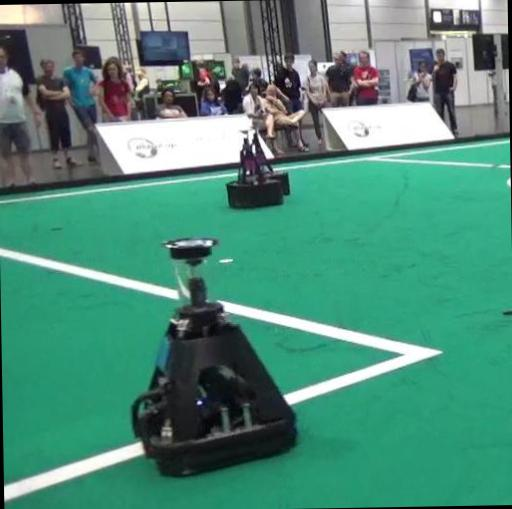robot: (132, 237, 297, 475), (227, 137, 283, 207), (252, 131, 289, 194)
